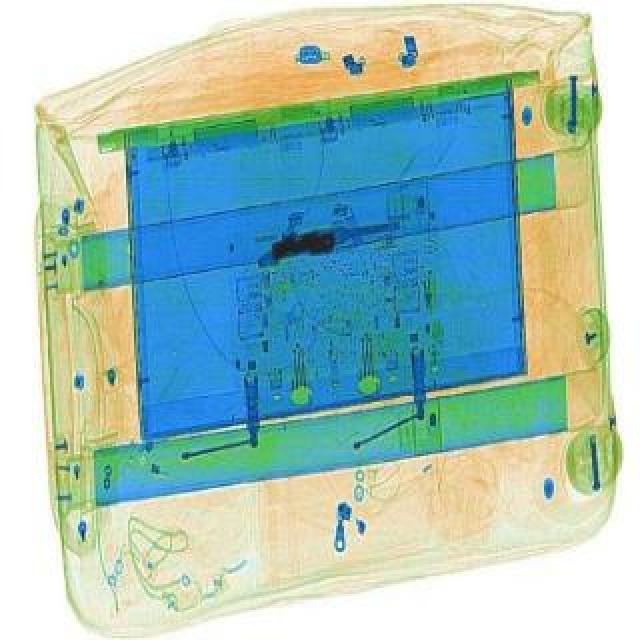gun: (254, 208, 408, 276)
